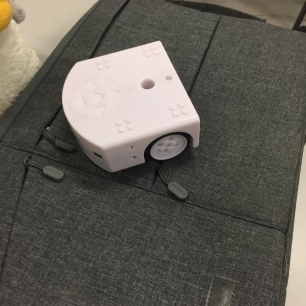thymio: (57, 36, 202, 178)
